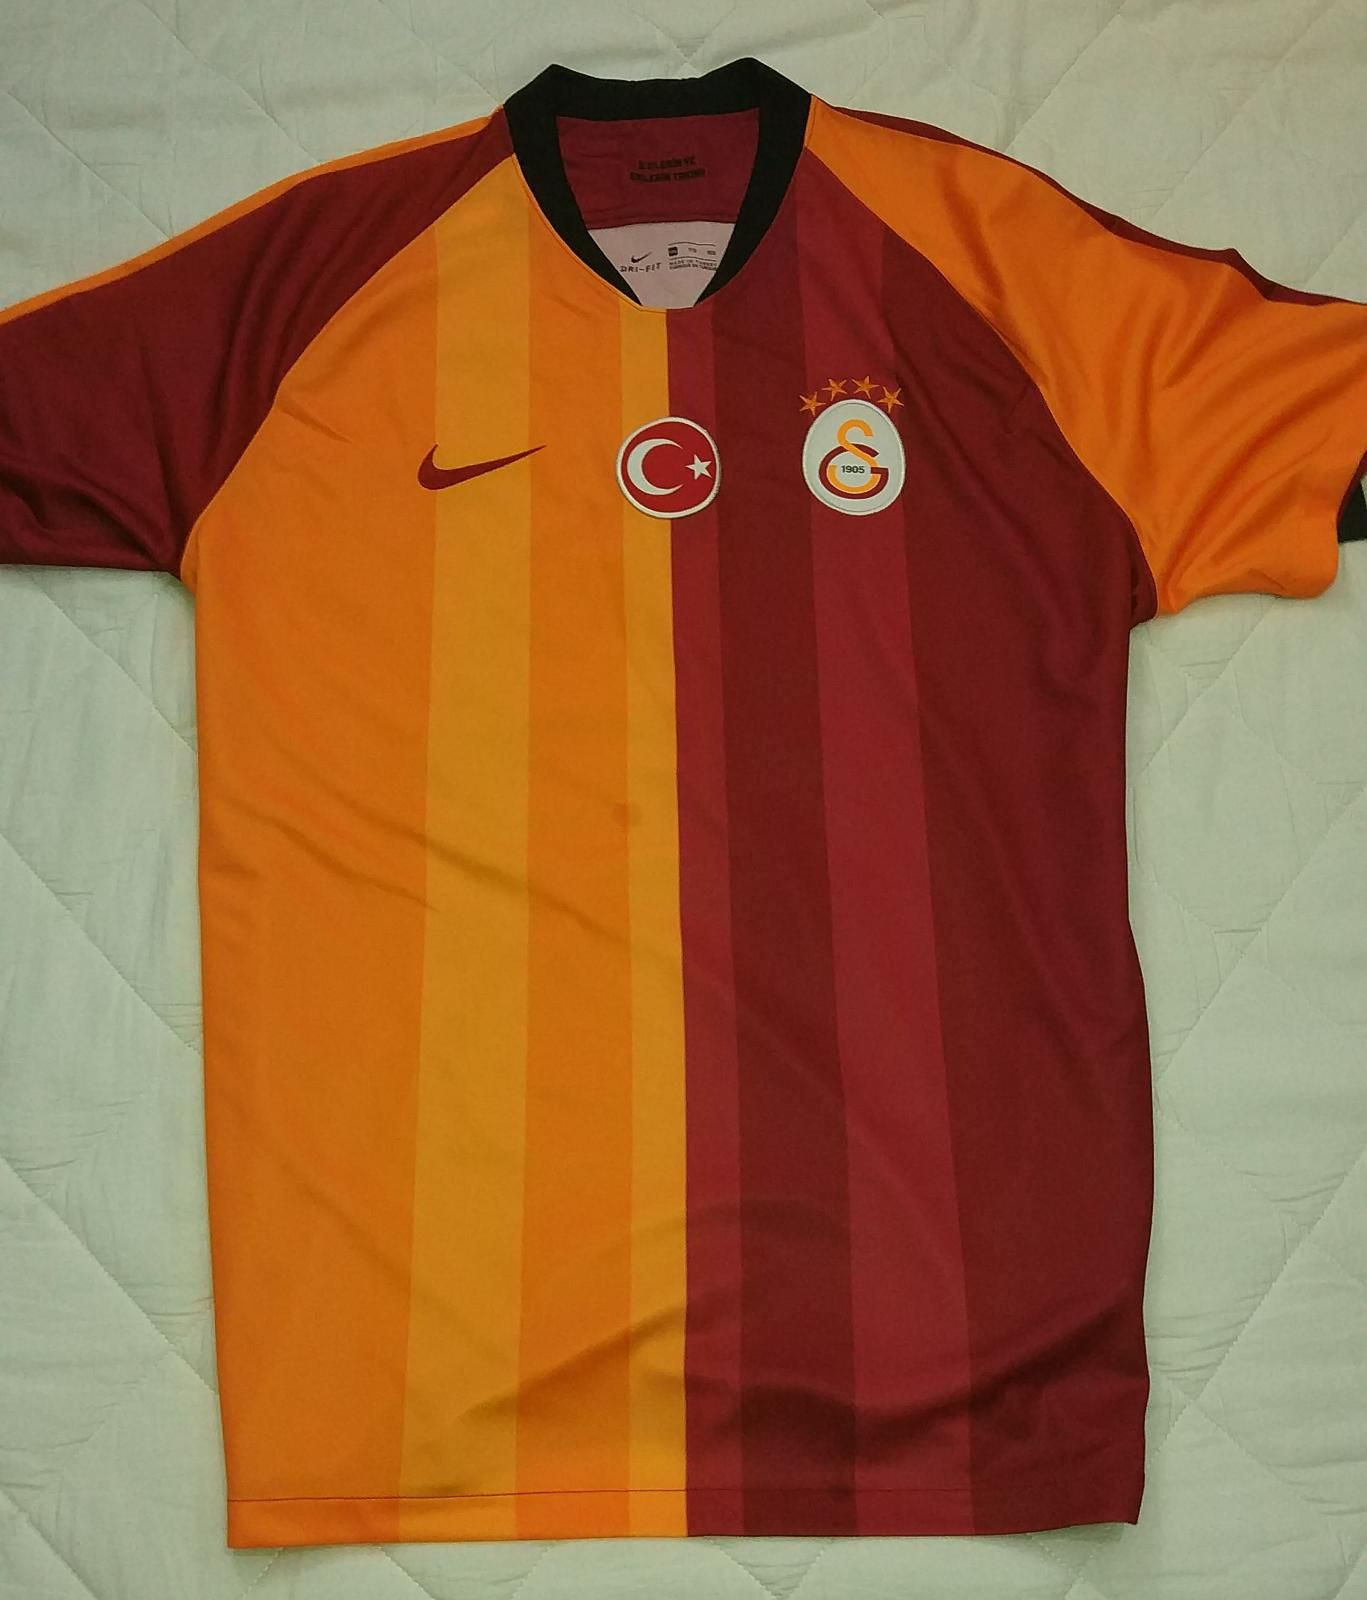clothes: (5, 43, 1367, 1565)
